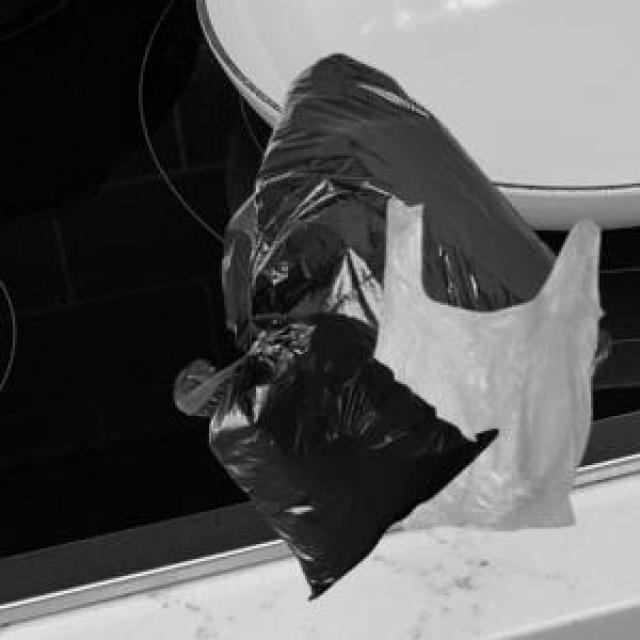miscellaneous trash: (171, 49, 608, 412), (173, 309, 493, 595)
